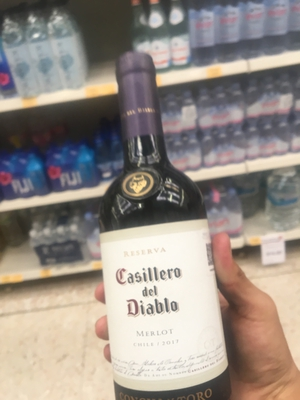casillero del diablo merlot: (84, 51, 240, 400)
